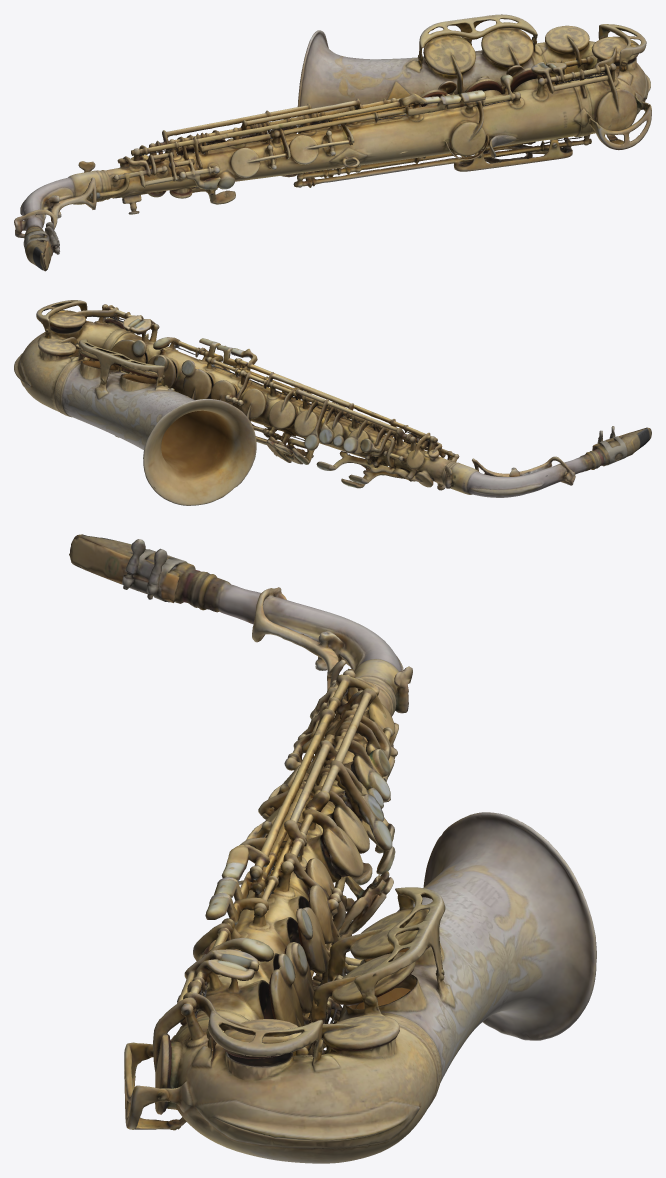
The model's file is charlie-parker-alto.glb.
3 views of the same model, one above another, from view 1: azimuth 30°, elevation 25°; view 2: azimuth 150°, elevation 25°; view 3: azimuth 270°, elevation 25° (orthographic). The views are drawn at different scales.
Bounding box in the file's own units: 26.15 × 4.8 × 10.46.
Materials: 1 (1 with a texture image).
